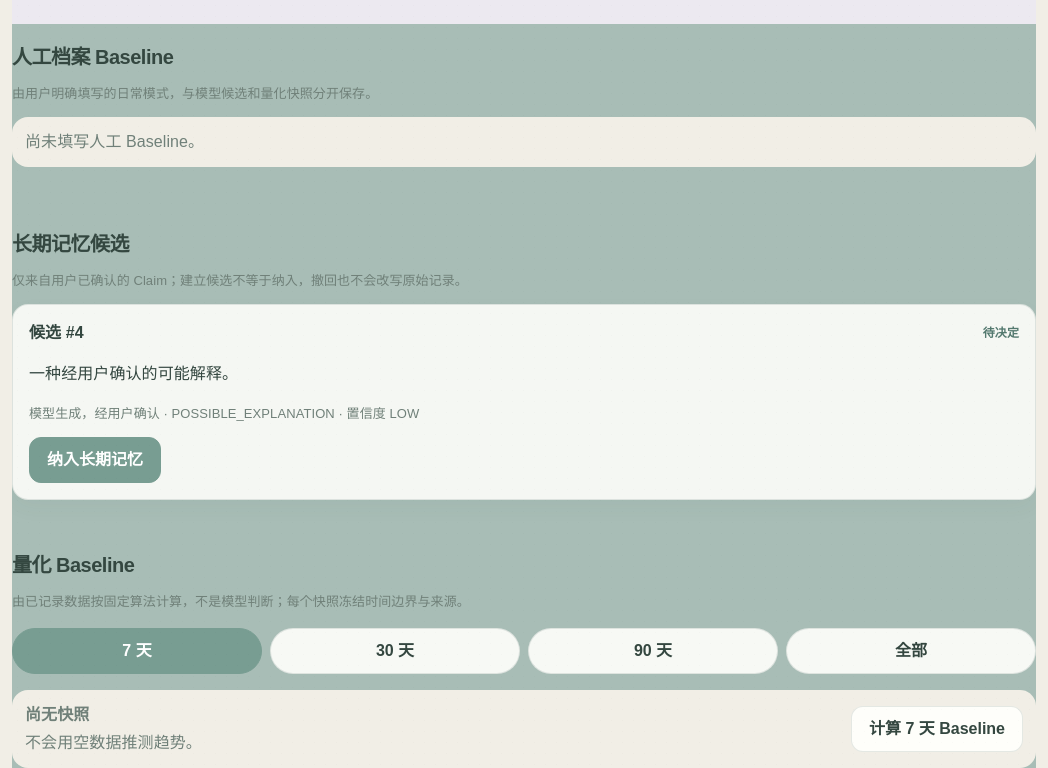
Test: memory and baseline closure › preserves a candidate and reuses its request id after a failed include
The image size is (1048, 768).
Step 1. Click the button "纳入长期记忆" → x=95, y=460, box [29,437,161,483]
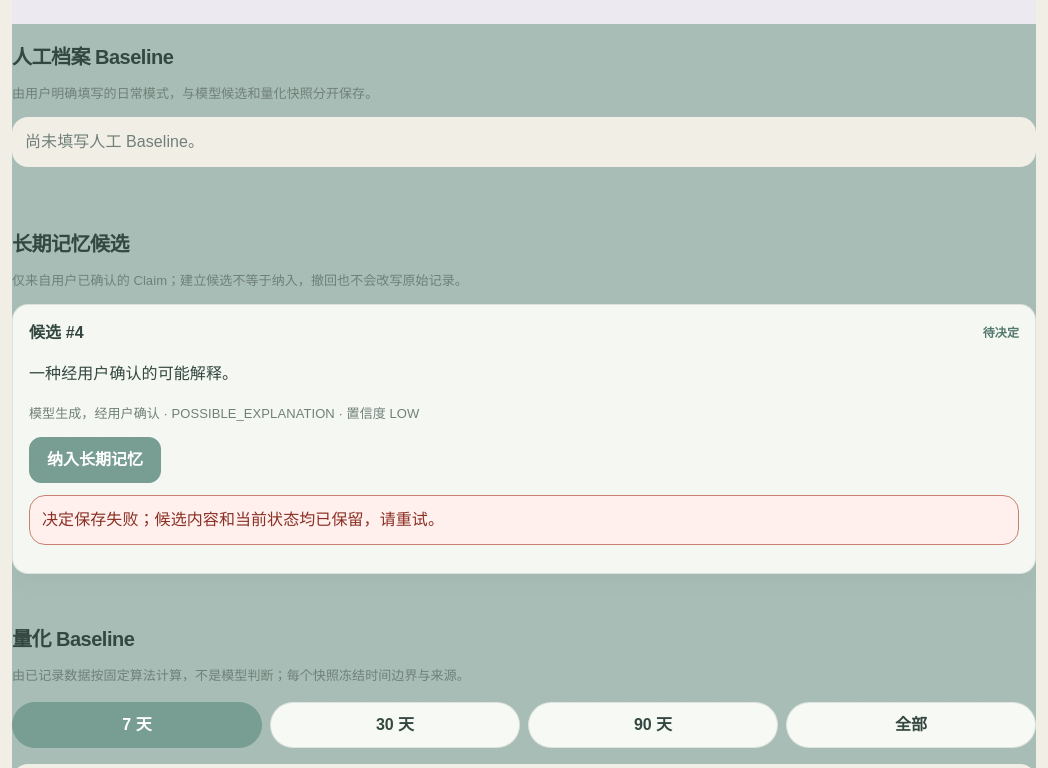
Expected: the text "一种经用户确认的可能解释。" is shown, [29,365,238,382]
Result: the message shows "当前状态均已保留" at [42,511,444,528]
Step 2. Click the button "纳入长期记忆" → x=95, y=460, box [29,437,161,483]
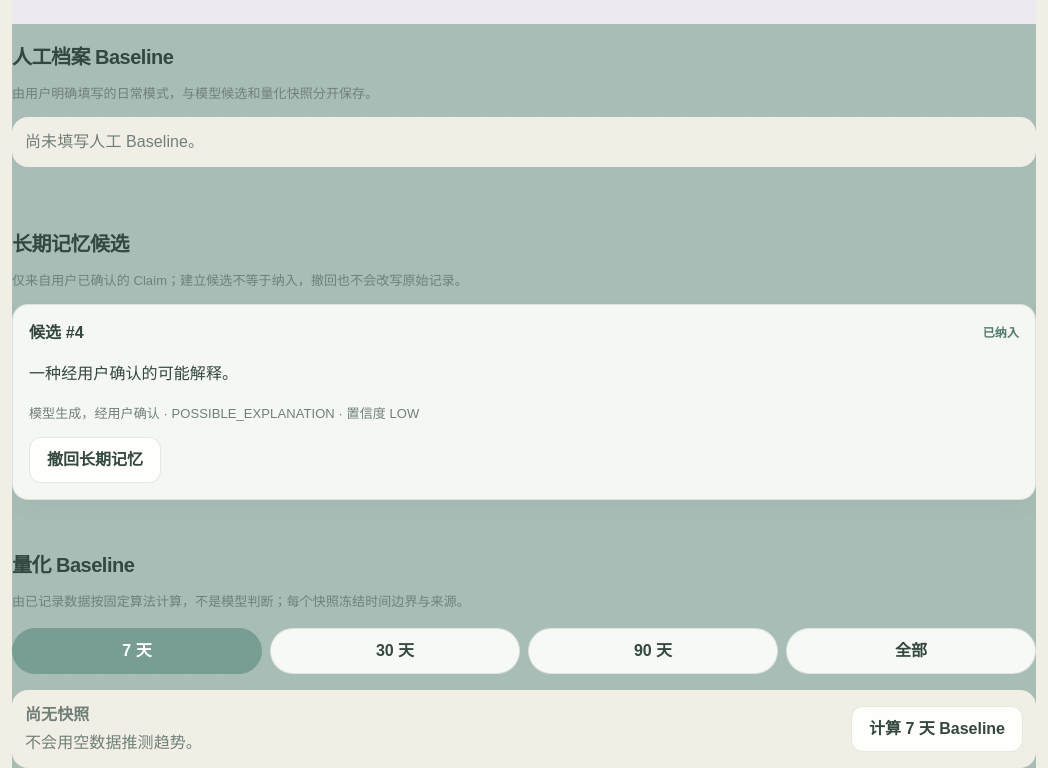
Result: the text "已纳入" is shown at [983,324,1019,342]
